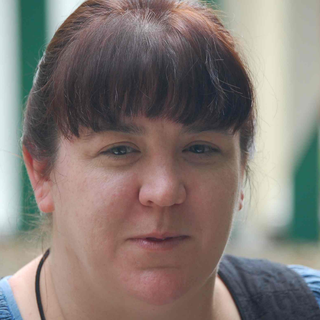eye: (94, 140, 145, 164), (175, 139, 225, 163)
